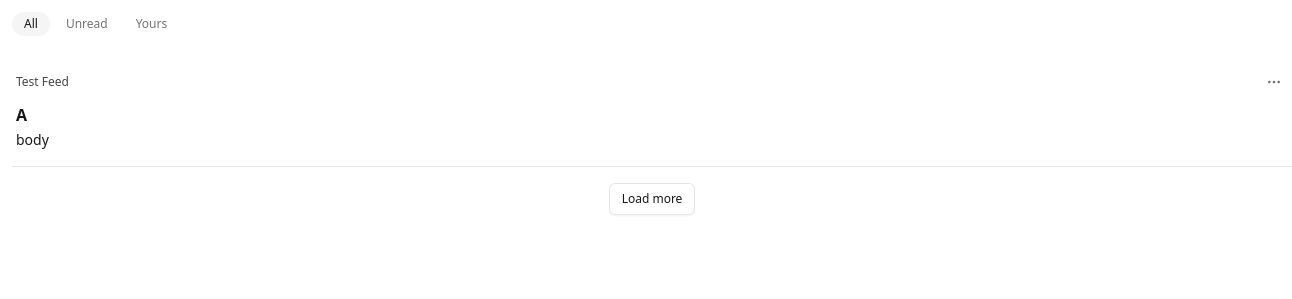
Test case: StreamView › paginates via Load more, passing cursor
Expected: the heading "A" is shown, x1=16 y1=104 x2=27 y2=126
Click the button "Load more" at (652, 199), box x1=609 y1=183 x2=695 y2=215
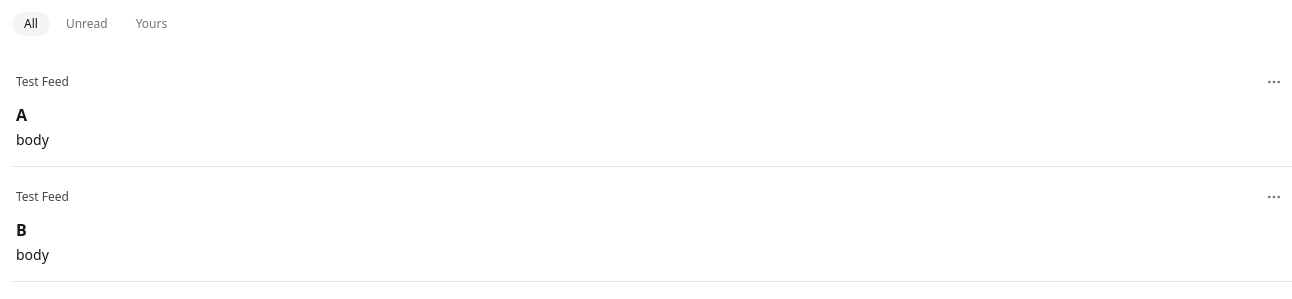
Result: the heading "B" is shown at x1=16 y1=219 x2=27 y2=241
